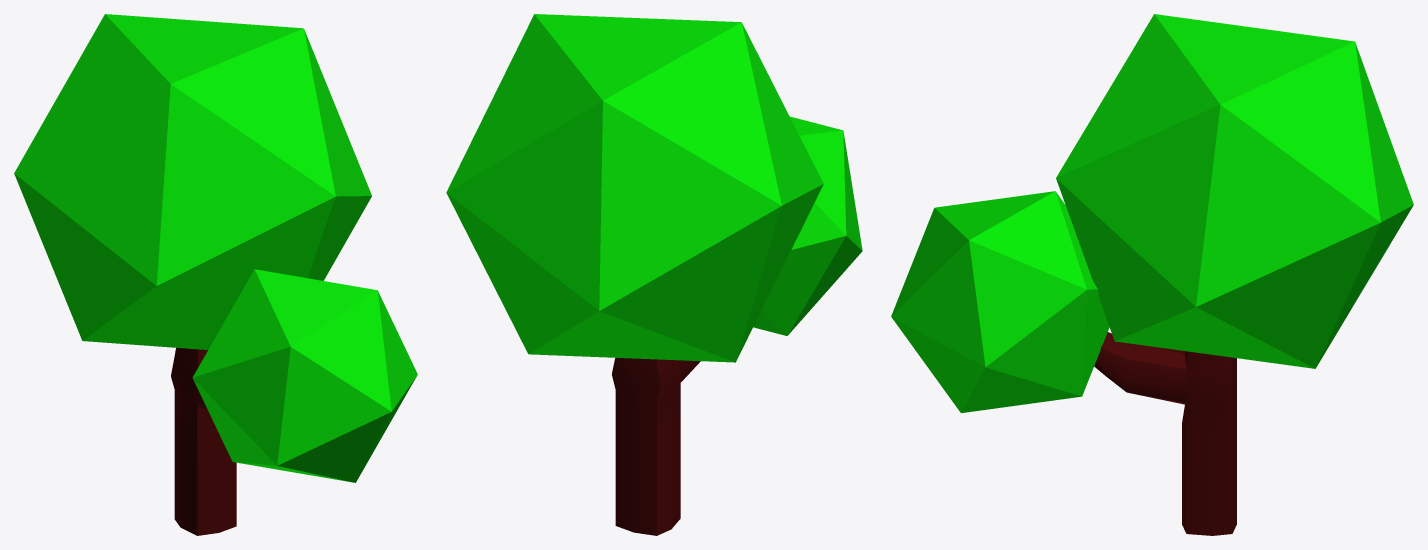
Rendered from Tree2.fbx.
3 renders of one model, left to right at view 1: azimuth 30°, elevation 25°; view 2: azimuth 150°, elevation 25°; view 3: azimuth 270°, elevation 25°, orthographic. The views are drawn at different scales.
Parts seen in each view (by area): view 1: polySurface9; view 2: polySurface9; view 3: polySurface9.
Part boxes in pixels (x1,y1,x2,y2): polySurface9: [14, 14, 417, 535]; polySurface9: [446, 14, 862, 535]; polySurface9: [891, 14, 1413, 535].
Size of the model in its own units: 5.03 by 7.13 by 7.05.
